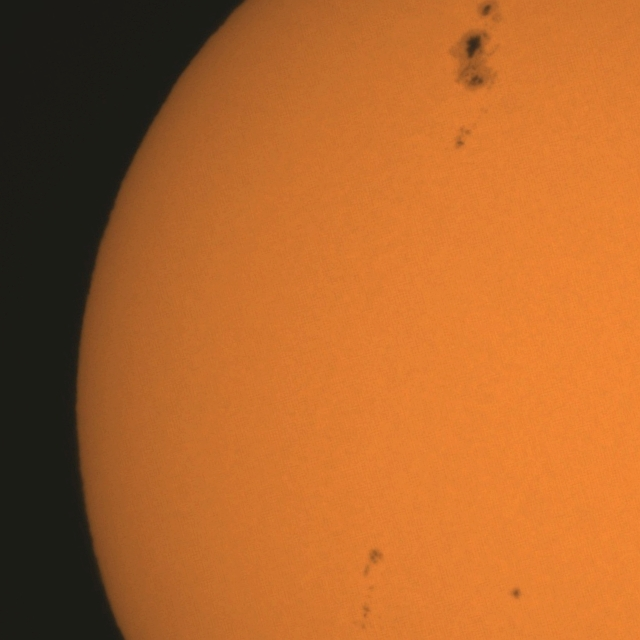sunspot: (448, 30, 505, 97), (478, 0, 502, 44), (361, 548, 384, 582), (454, 124, 472, 150), (359, 603, 371, 631), (508, 586, 522, 601), (361, 601, 372, 619)
